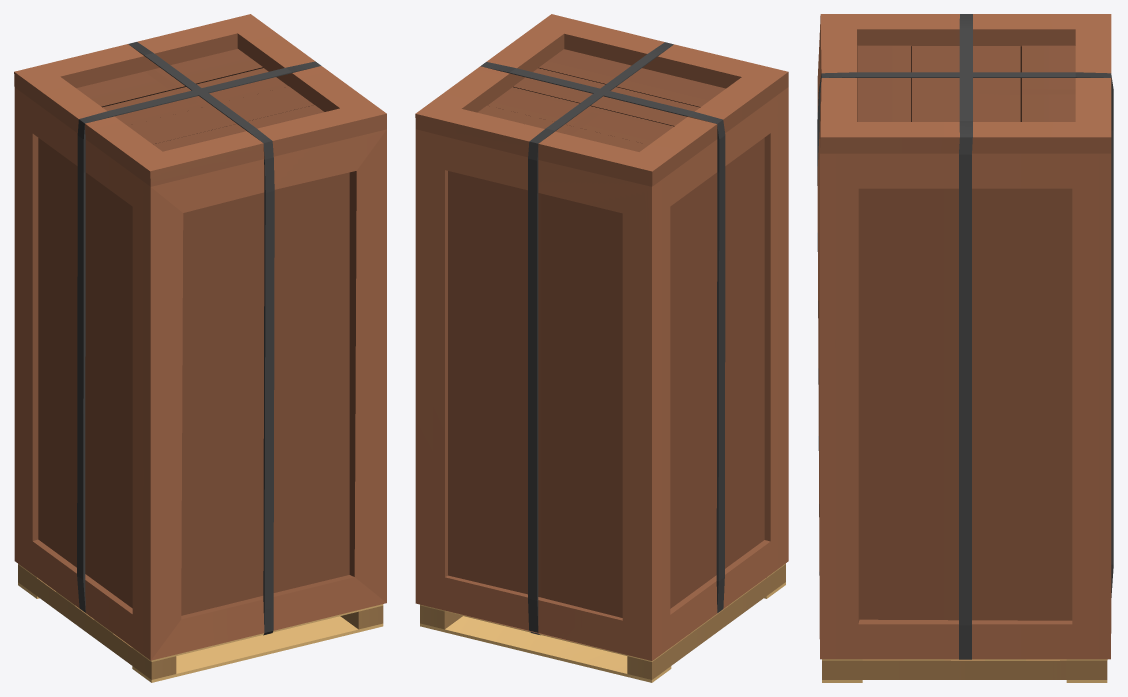
The model's file is Tall Dark Shipping Crate.fbx.
3 renders of one model, left to right at view 1: azimuth 30°, elevation 25°; view 2: azimuth 150°, elevation 25°; view 3: azimuth 270°, elevation 25°, orthographic. The views are drawn at different scales.
Parts seen in each view (by area): view 1: Tall Dark Shipping Crate; view 2: Tall Dark Shipping Crate; view 3: Tall Dark Shipping Crate.
Boxes of the visible parts, left/top/right/bottom form: Tall Dark Shipping Crate: left=14, top=14, right=386, bottom=682; Tall Dark Shipping Crate: left=415, top=14, right=788, bottom=682; Tall Dark Shipping Crate: left=817, top=14, right=1113, bottom=682.
Bounding box in the file's own units: 809 × 397 × 396.
Materials: 1 (1 with a texture image).
